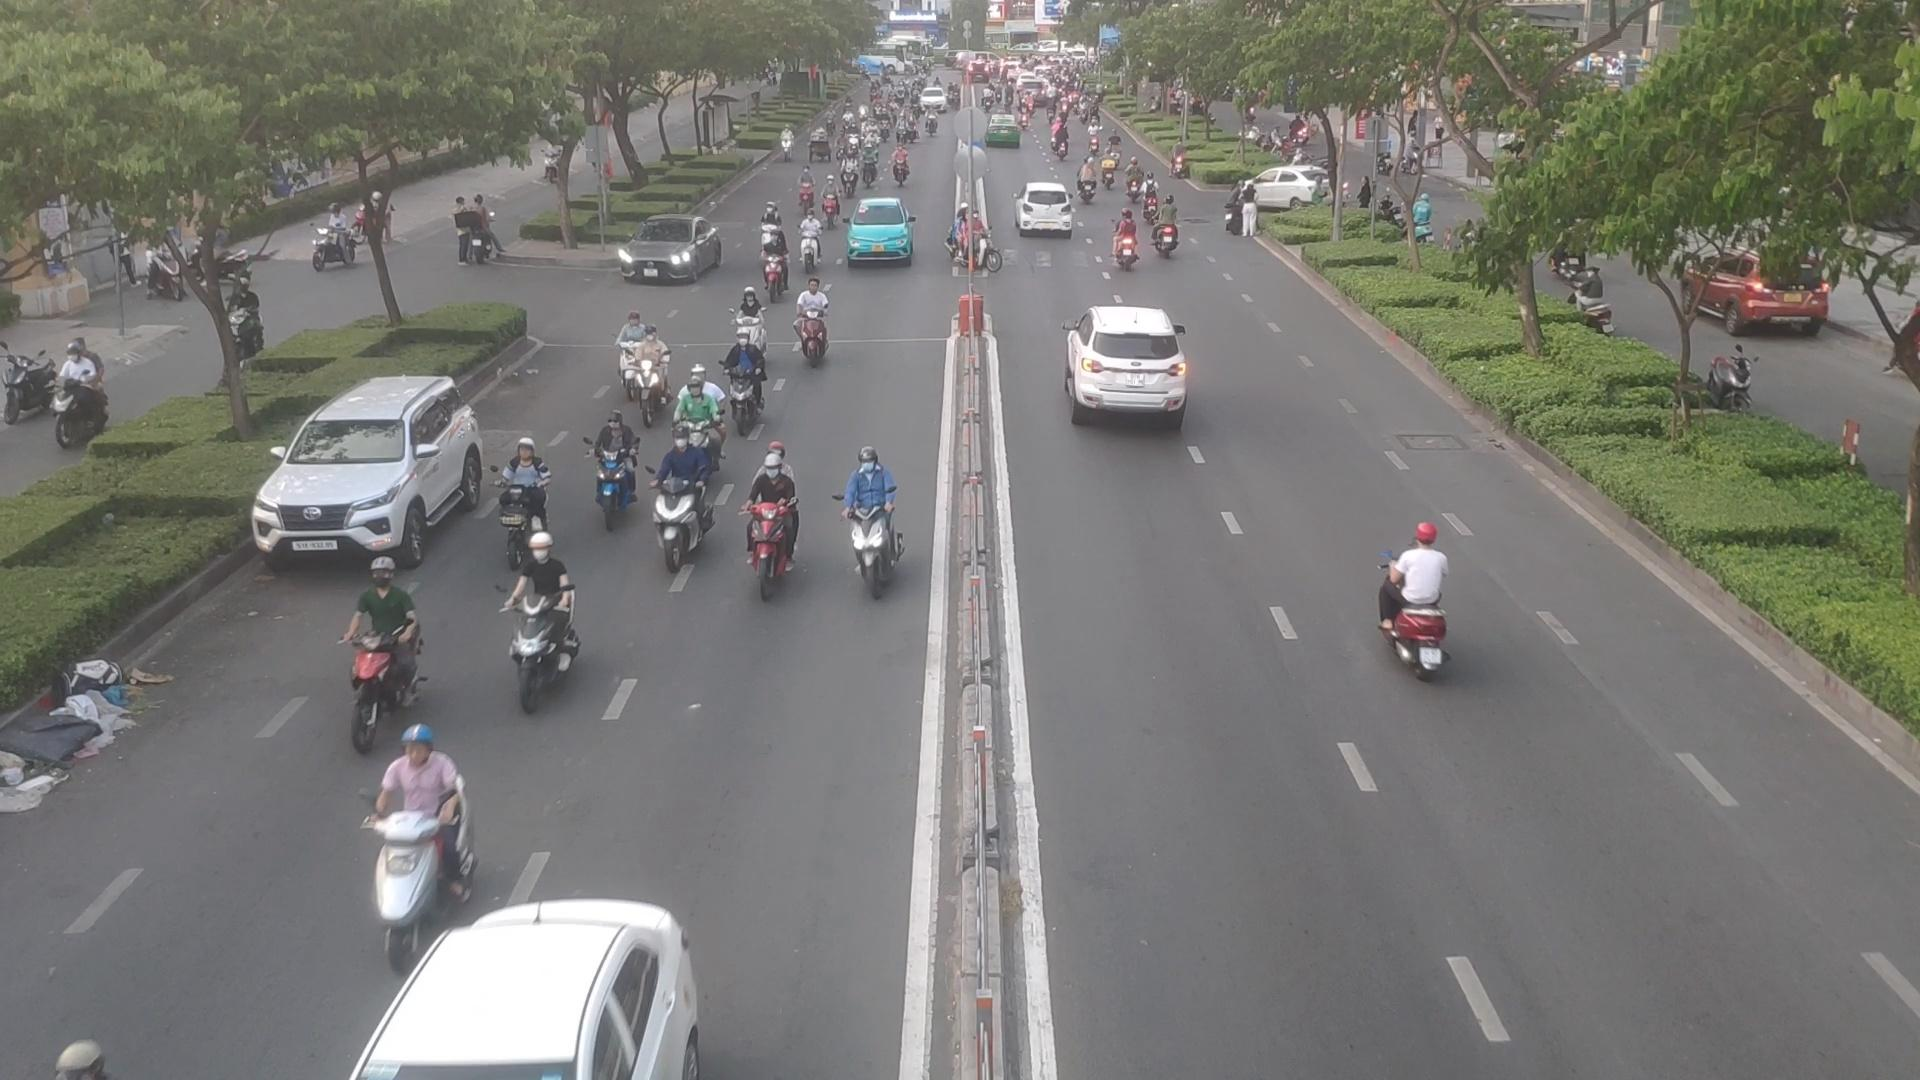car: (253, 377, 497, 570), (1068, 308, 1192, 413), (615, 218, 724, 287), (844, 196, 912, 267), (1240, 166, 1333, 215), (1016, 183, 1077, 239)
motorbike: (366, 733, 471, 926), (1369, 523, 1453, 693), (848, 447, 926, 605), (736, 436, 808, 599), (343, 636, 432, 753), (648, 425, 715, 573), (507, 600, 587, 718), (487, 441, 546, 567), (589, 414, 640, 524), (627, 326, 680, 429), (674, 364, 725, 458), (943, 200, 995, 281), (722, 290, 768, 374), (732, 331, 769, 427), (598, 303, 635, 396), (798, 277, 828, 365), (1112, 205, 1138, 278), (760, 193, 789, 253), (1155, 195, 1177, 271), (819, 174, 848, 223), (798, 209, 823, 263), (797, 168, 816, 213), (839, 158, 858, 201), (1149, 169, 1163, 223), (890, 151, 910, 186)
